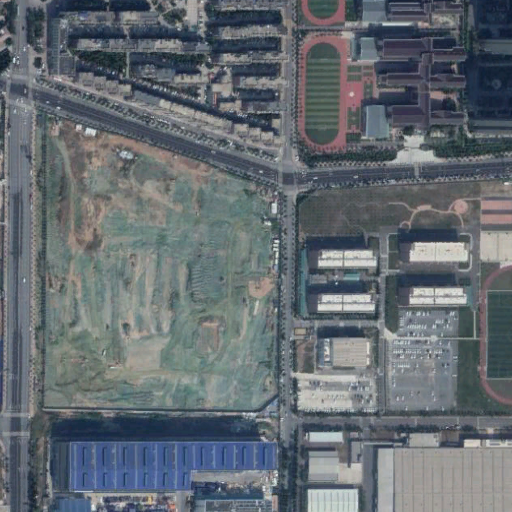cw: (32, 111, 279, 412)
